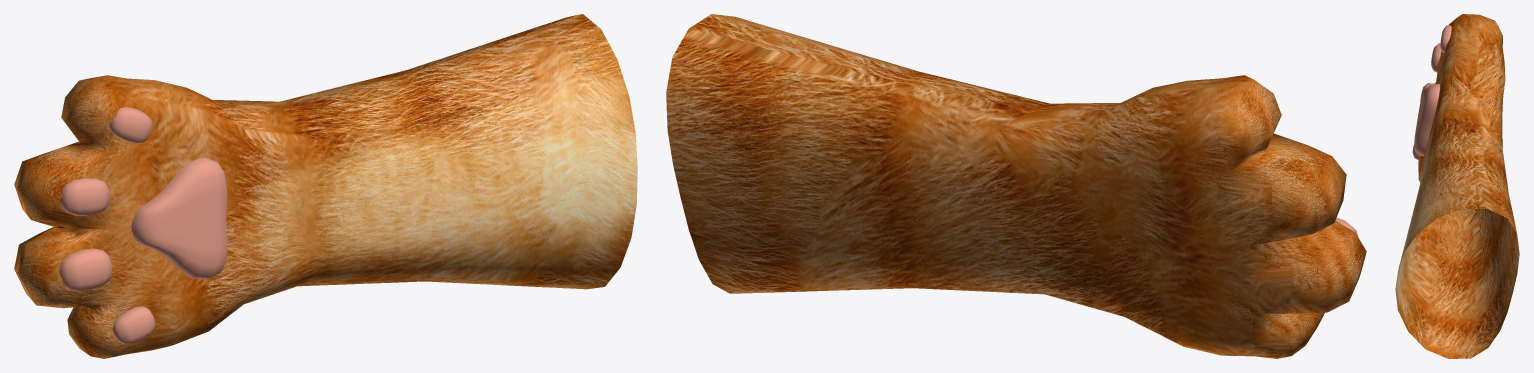
File: paperOrange.glb
The picture shows the model from 3 angles, left to right: view 1: azimuth 30°, elevation 25°; view 2: azimuth 150°, elevation 25°; view 3: azimuth 270°, elevation 25°; orthographic projection. The views are drawn at different scales.
Visible parts, largest first — view 1: Paper; view 2: Paper; view 3: Paper.
Part boxes in pixels (<box>): Paper: <box>14,14,637,358</box>; Paper: <box>666,14,1366,358</box>; Paper: <box>1395,14,1519,358</box>.
Bounding box in the file's own units: 0.9809 × 0.4912 × 0.2806.
2 materials, 1 textured.
